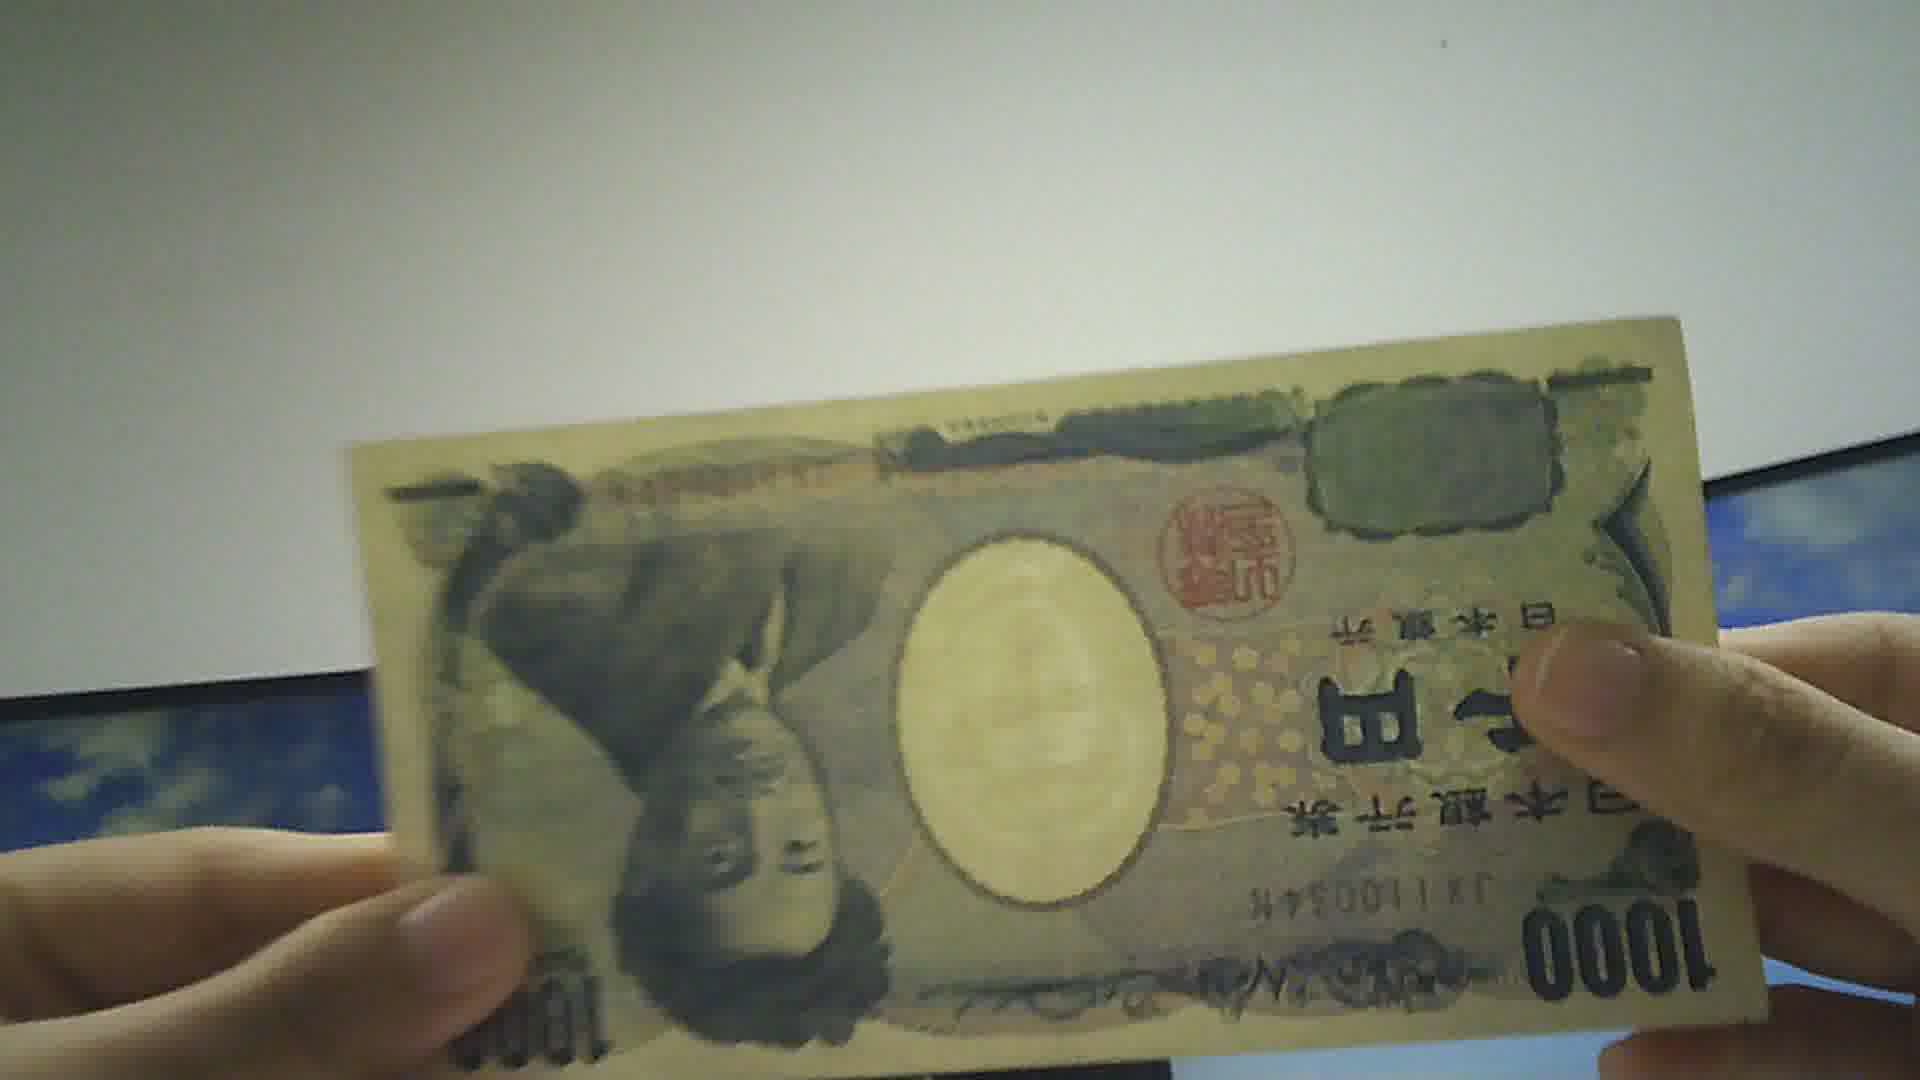1,000 Yen: (338, 314, 1787, 1077)
